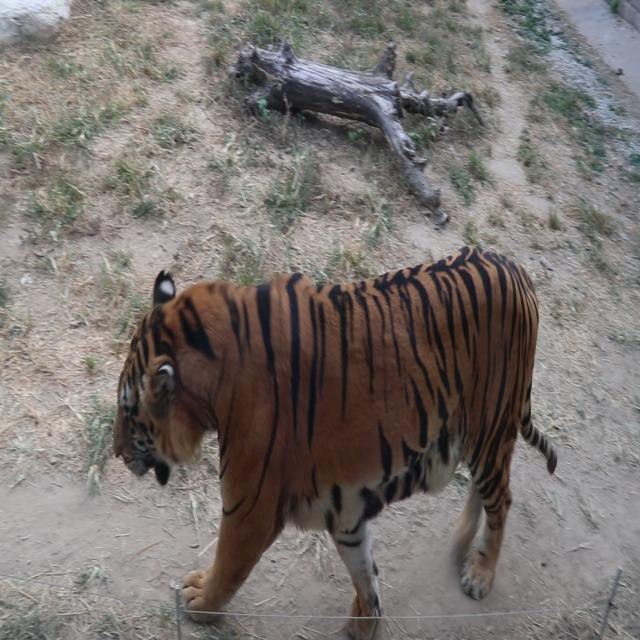Tiger: (98, 211, 570, 639)
